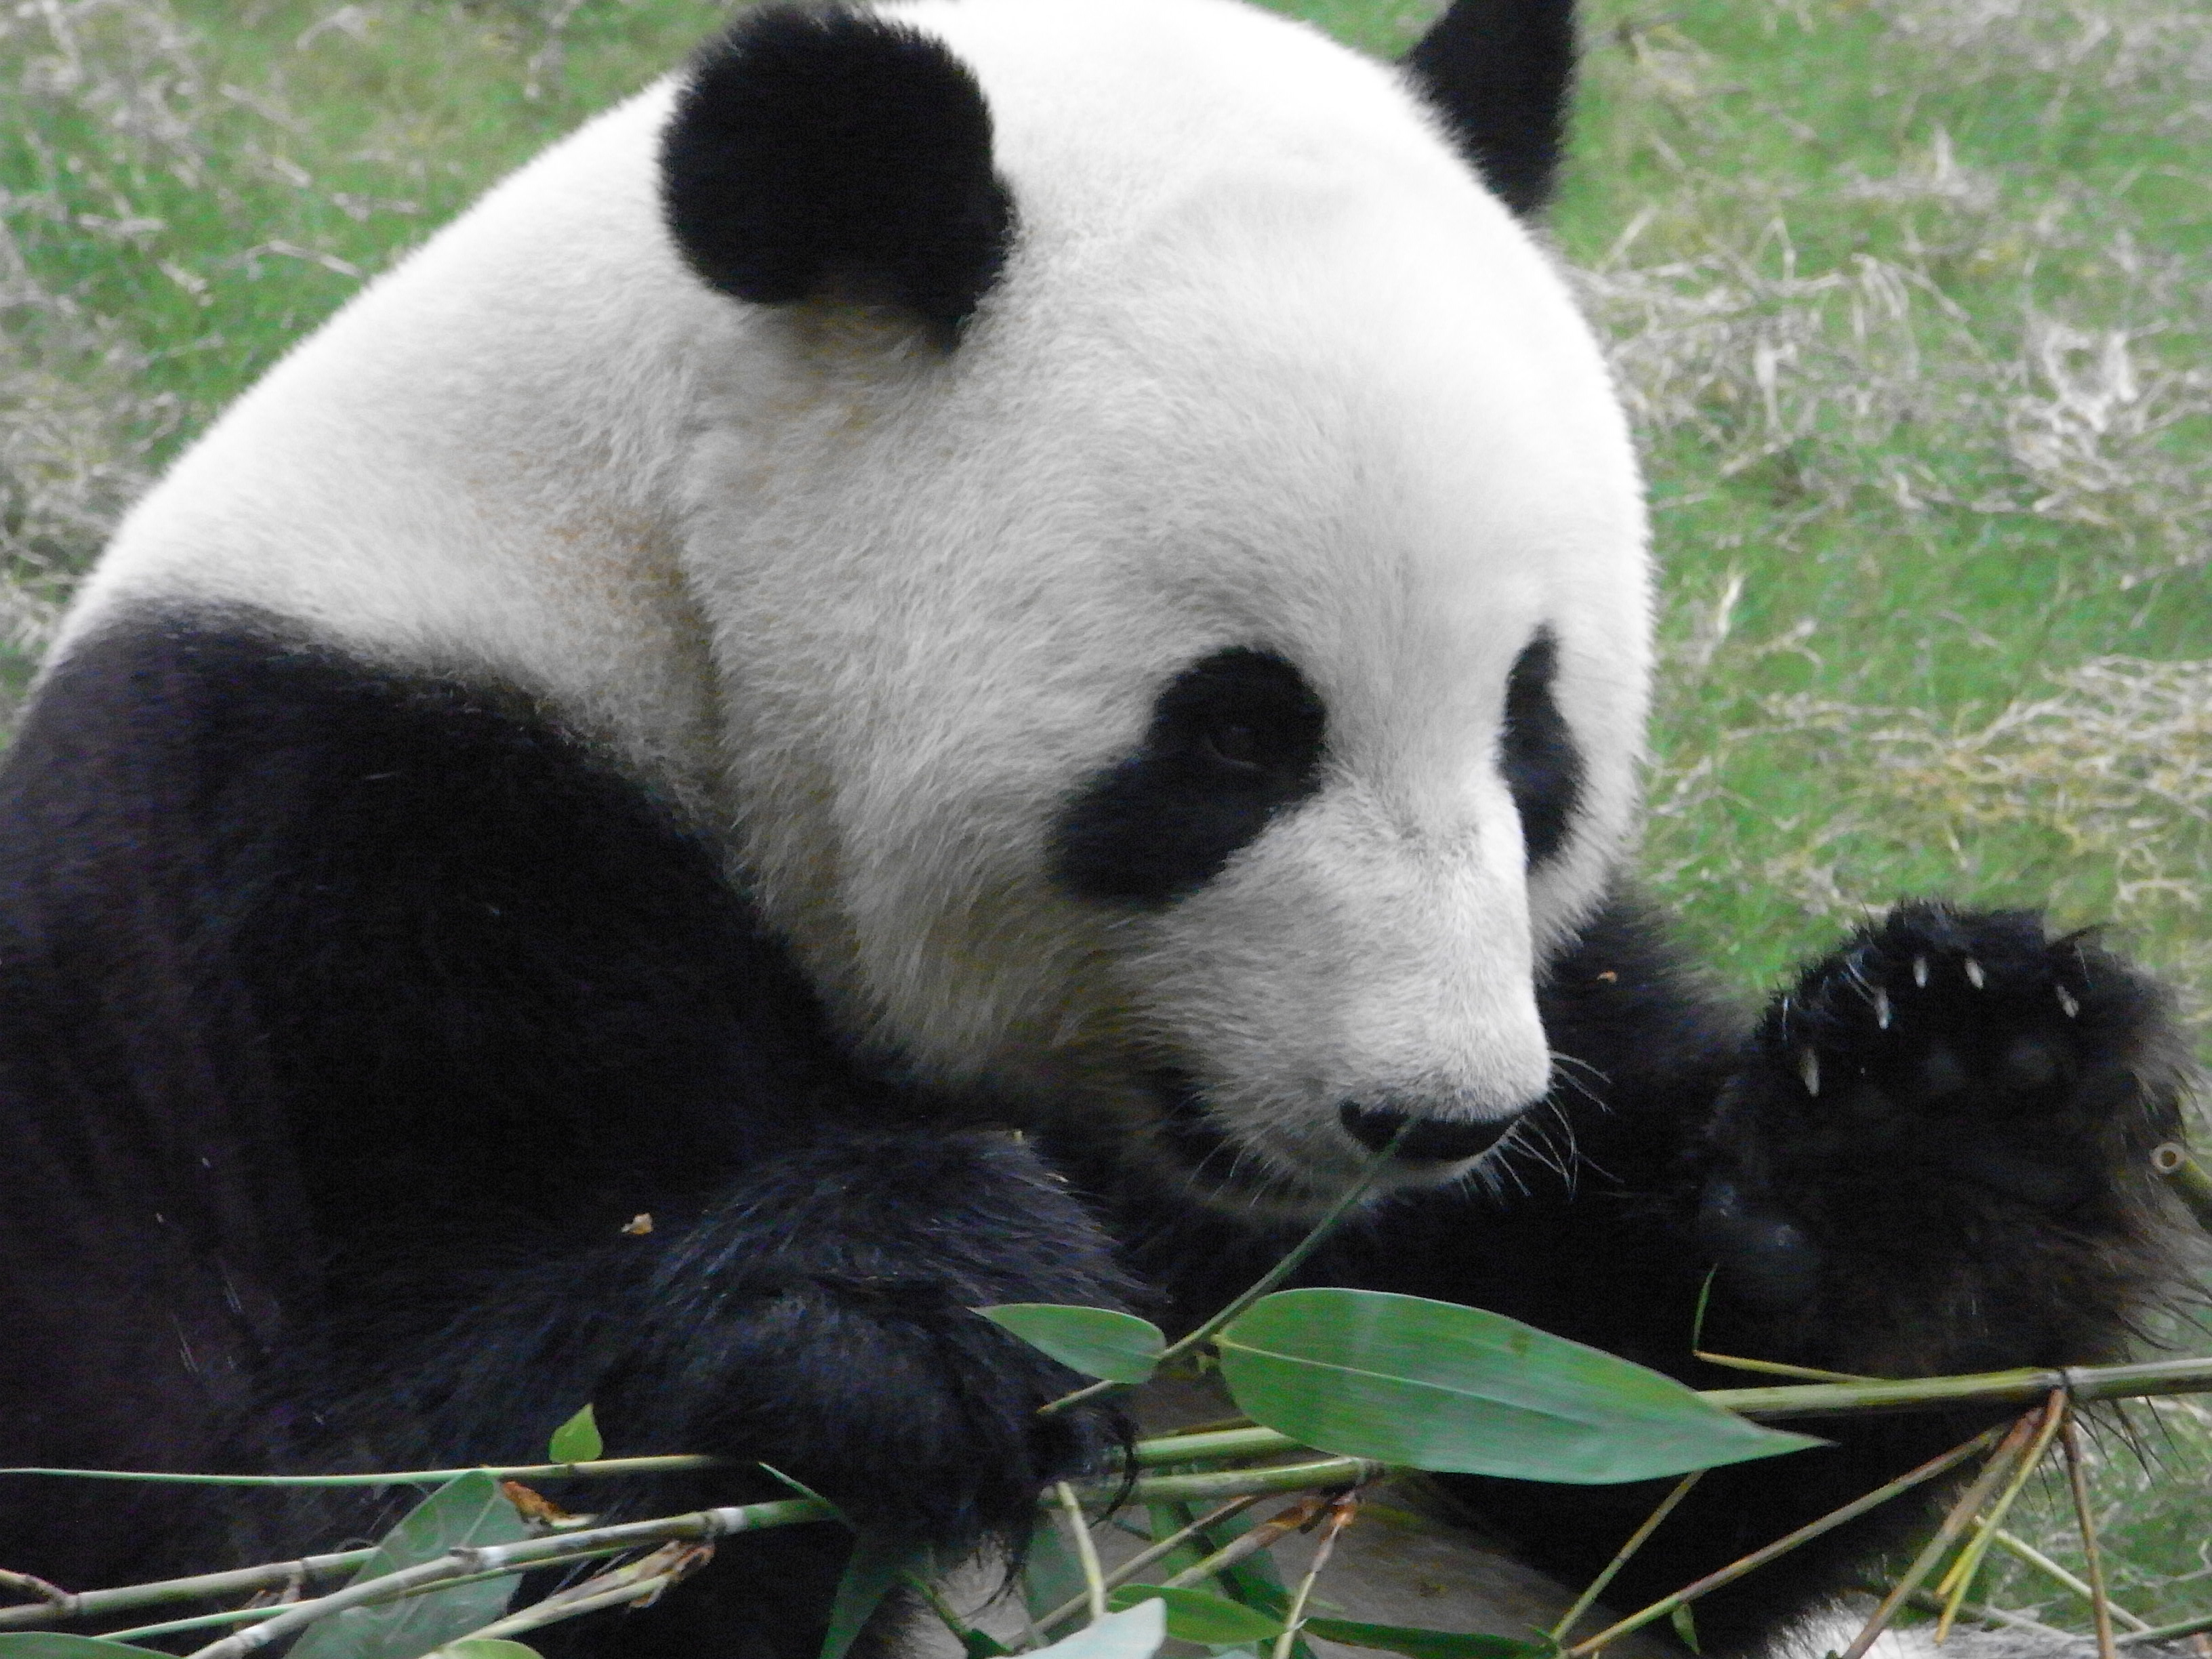panda: (7, 17, 2160, 1607)
